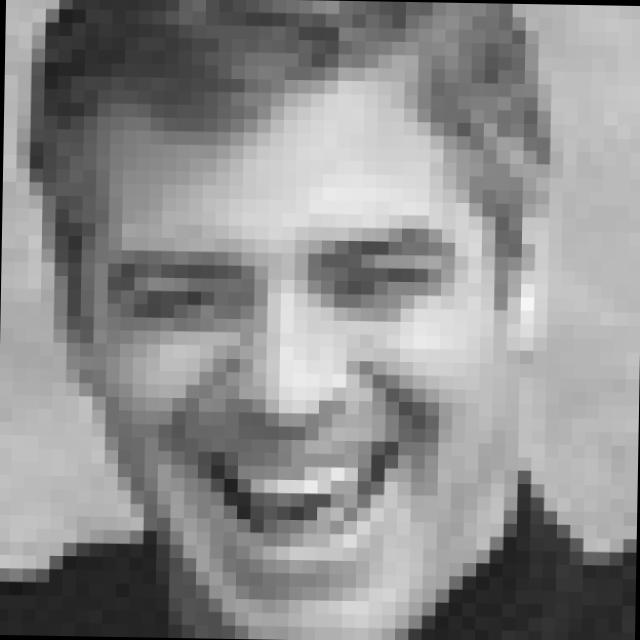happy: (98, 215, 474, 596)
